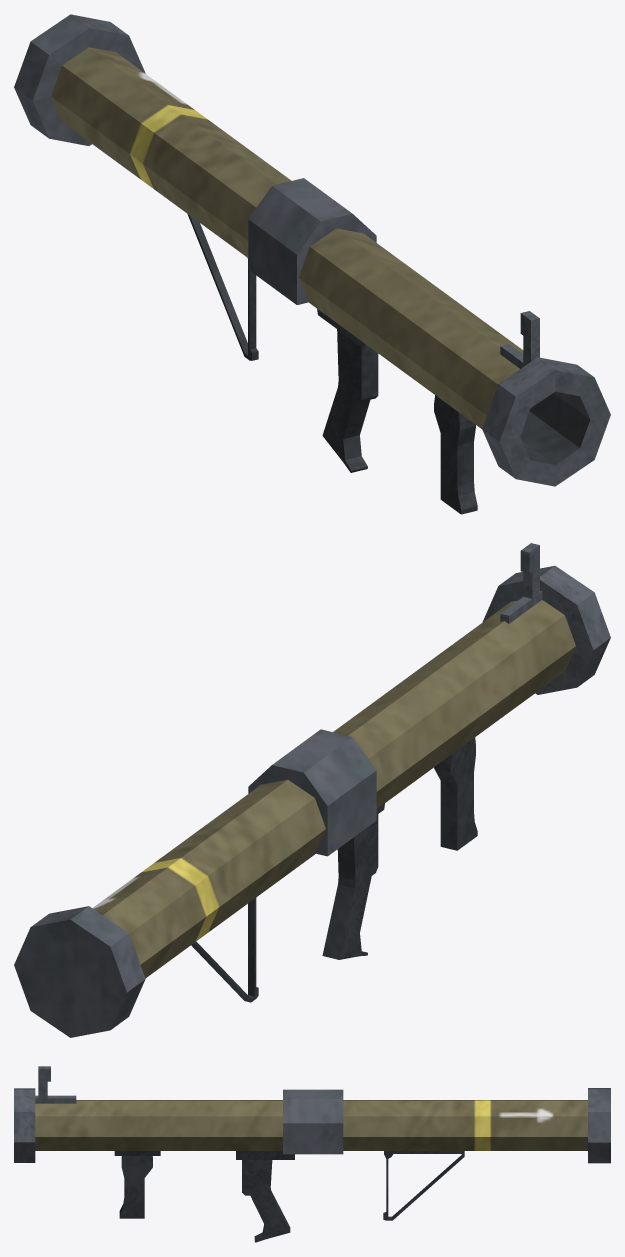
Rendered from ps1_style_rocket_launcher.glb.
3 renders of one model, top to bottom at view 1: azimuth 30°, elevation 25°; view 2: azimuth 150°, elevation 25°; view 3: azimuth 270°, elevation 25°, orthographic. The views are drawn at different scales.
Visible parts, largest first — view 1: Cylinder, Cube.001, Cube.004, Cube.002, Cube.006, Cube; view 2: Cylinder, Cube.001, Cube.004, Cube.002, Cube, Cube.006; view 3: Cylinder, Cube.001, Cube.004, Cube.002, Cube.006, Cube, Cube.005.
Part boxes in pixels (left/top/right/bottom): Cylinder: left=14, top=14, right=610, bottom=486; Cube.001: left=248, top=178, right=376, bottom=304; Cube.004: left=322, top=329, right=378, bottom=472; Cube.002: left=434, top=395, right=477, bottom=514; Cube.006: left=187, top=214, right=258, bottom=360; Cube: left=500, top=311, right=539, bottom=368; Cylinder: left=14, top=565, right=610, bottom=1037; Cube.001: left=248, top=729, right=376, bottom=856; Cube.004: left=322, top=814, right=378, bottom=959; Cube.002: left=434, top=737, right=477, bottom=850; Cube: left=500, top=543, right=542, bottom=623; Cube.006: left=191, top=897, right=258, bottom=1002; Cylinder: left=14, top=1088, right=610, bottom=1163; Cube.001: left=283, top=1089, right=343, bottom=1154; Cube.004: left=242, top=1160, right=290, bottom=1242; Cube.002: left=119, top=1156, right=152, bottom=1218; Cube.006: left=383, top=1151, right=464, bottom=1220; Cube: left=35, top=1066, right=76, bottom=1103; Cube.005: left=236, top=1151, right=294, bottom=1159.
Size of the model in its own units: 1.7 by 4.03 by 12.62.
Materials: 1 (1 with a texture image).
